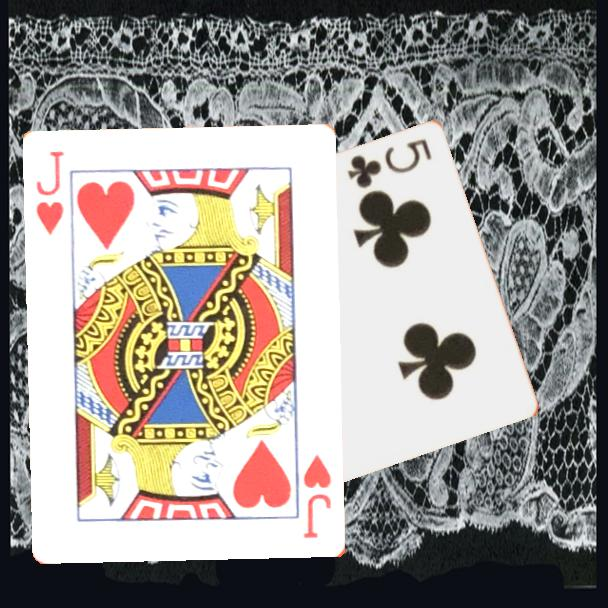c05: (344, 134, 435, 191)
h11: (300, 451, 335, 542), (33, 148, 68, 239)
